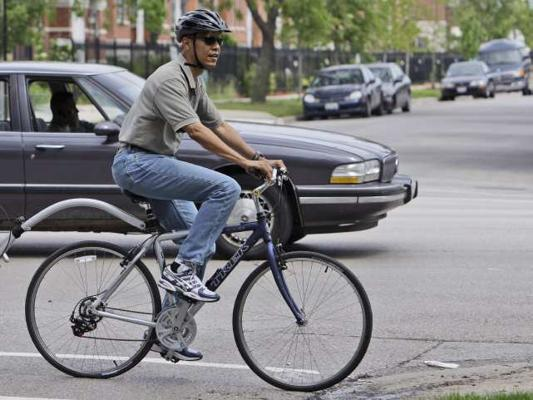person: (110, 8, 283, 361)
